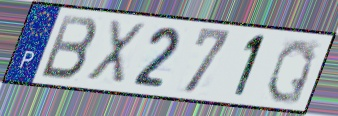1: (230, 32, 269, 101)
2: (128, 25, 183, 90)
7: (183, 25, 233, 97)
B: (37, 13, 100, 82)
Q: (263, 37, 318, 106)
X: (83, 18, 148, 88)
